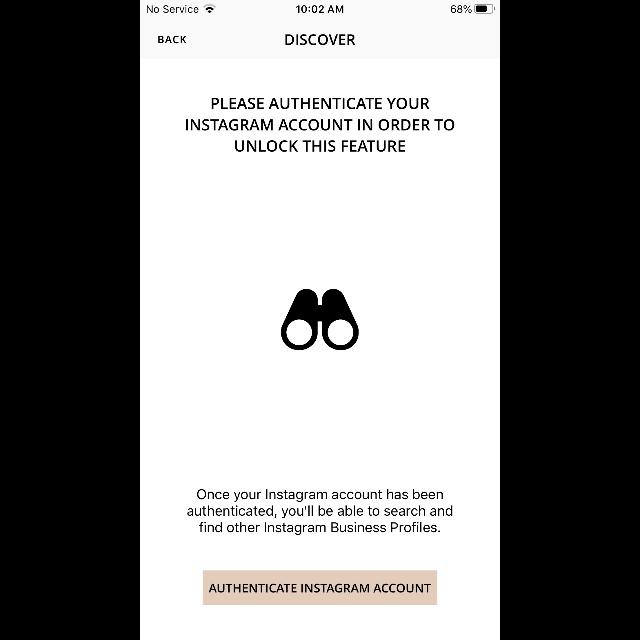image: (282, 288, 358, 349)
text: (186, 98, 454, 152), (188, 489, 452, 535), (285, 34, 355, 46), (158, 36, 186, 42)
textbutton: (203, 571, 437, 605)
uppertaskbar: (140, 0, 500, 14)
